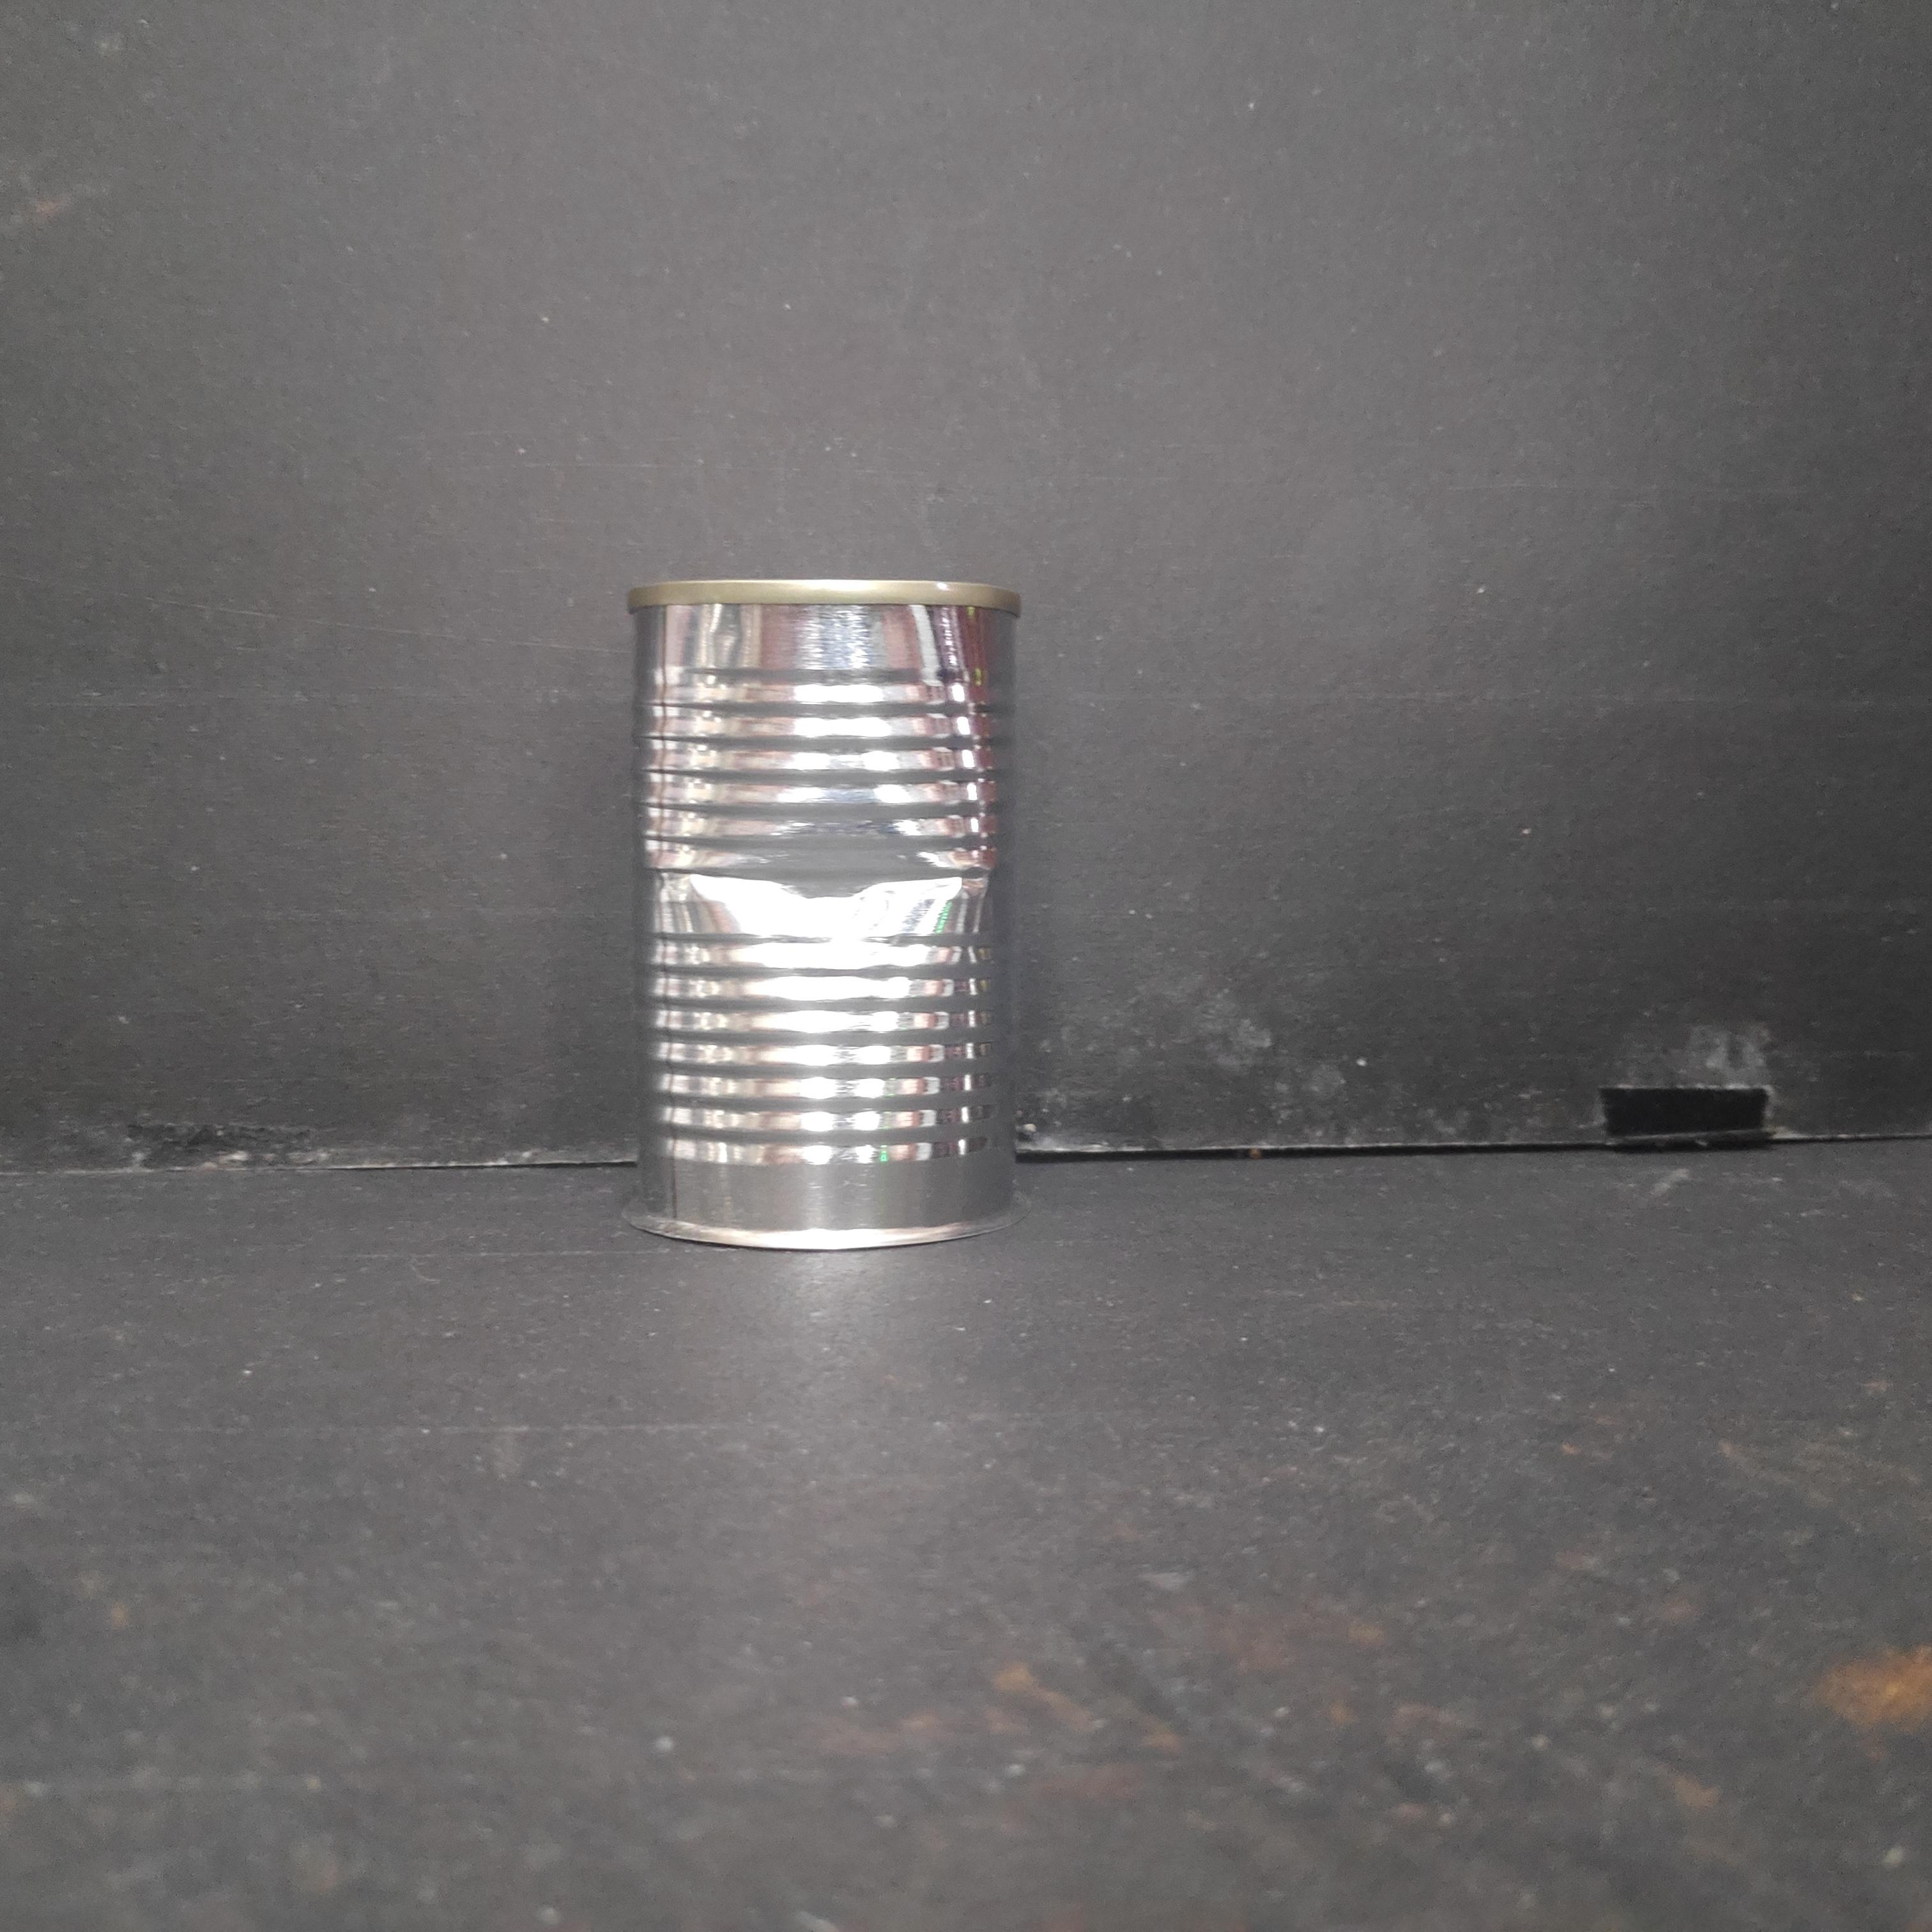Minor Defect: (621, 563, 1031, 1254)
